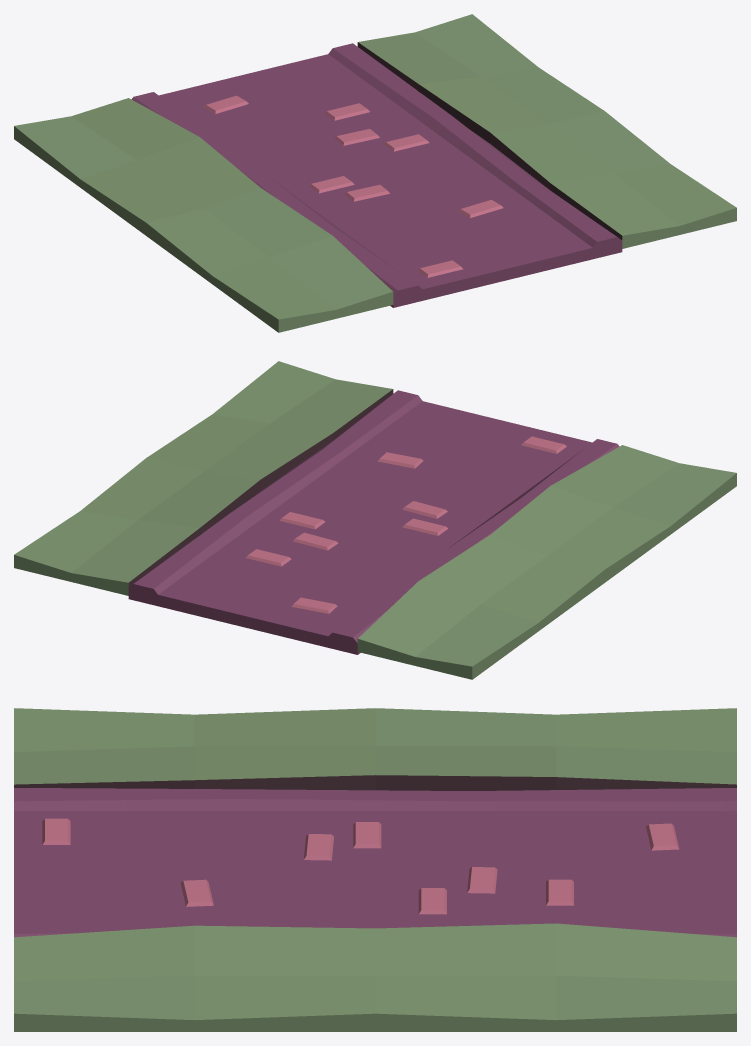
The model's file is GrassPath.fbx.
The picture shows the model from 3 angles, top to bottom: view 1: azimuth 30°, elevation 25°; view 2: azimuth 150°, elevation 25°; view 3: azimuth 270°, elevation 25°; orthographic projection. The views are drawn at different scales.
Visible parts, largest first — view 1: SM_Env_GrassPath_Straight_01; view 2: SM_Env_GrassPath_Straight_01; view 3: SM_Env_GrassPath_Straight_01.
Boxes of the visible parts, bbox=[...] form: SM_Env_GrassPath_Straight_01: bbox=[14, 14, 736, 332]; SM_Env_GrassPath_Straight_01: bbox=[14, 361, 736, 679]; SM_Env_GrassPath_Straight_01: bbox=[14, 708, 736, 1031].
Bounding box in the file's own units: 5 × 0.2542 × 5.
